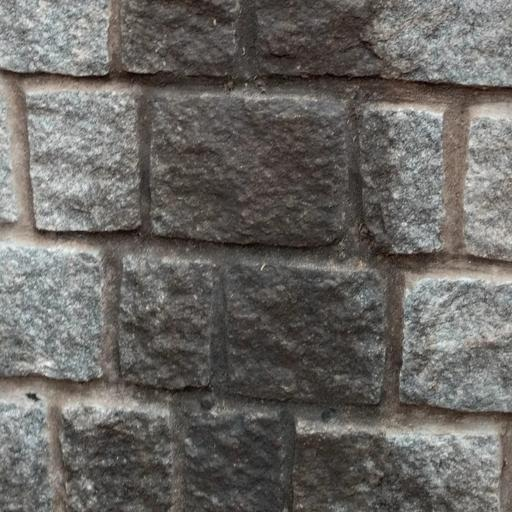stain: (94, 5, 431, 512)
